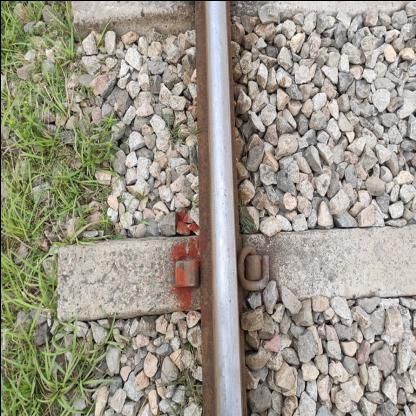Defective 1: (162, 246, 202, 292)
Non Defective 1: (232, 240, 274, 294)
